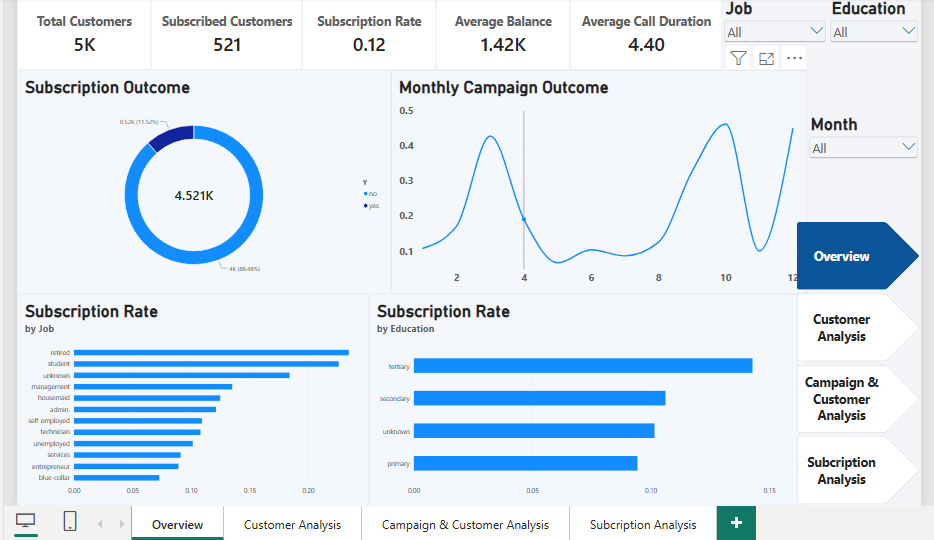

What the dashboard file says about the page in this screenshot:
{"tool":"powerbi","page":{"name":"Overview","canvas":[1920,1080],"ordinal":0},"visuals":[{"type":"cardVisual","fields":{"Data":["bank_cleaned.Total Customers"]},"box":[0,0,284.9,153.1],"z":0},{"type":"cardVisual","fields":{"Data":["bank_cleaned.Average Balance"]},"box":[890.8,0,284.9,153.1],"z":1000},{"type":"cardVisual","fields":{"Data":["bank_cleaned.Subscription Rate"]},"box":[605.9,0,284.9,153.1],"z":2000},{"type":"cardVisual","fields":{"Data":["bank_cleaned.Subscribed Customers"]},"box":[284.9,0,321,153.1],"z":3000},{"type":"cardVisual","fields":{"Data":["bank_cleaned.Average Call Duration"]},"box":[1175.7,0,323.1,153.1],"z":4000},{"type":"donutChart","title":"Subscription Outcome","fields":{"Category":["bank_cleaned.y"],"Y":["CountNonNull(bank_cleaned.y)"]},"box":[0,153.1,795.1,476.2],"z":5000},{"type":"barChart","title":"Subscription Rate","fields":{"Category":["bank_cleaned.job"],"Y":["bank_cleaned.Subscription Rate"]},"box":[0,629.3,748.3,450.7],"z":6000},{"type":"barChart","title":"Subscription Rate ","fields":{"Category":["bank_cleaned.education"],"Y":["bank_cleaned.Subscription Rate"]},"box":[748.3,629.3,931.2,450.7],"z":7000},{"type":"lineChart","title":"Monthly Campaign Outcome","fields":{"Category":["bank_cleaned.month_num"],"Y":["bank_cleaned.Subscription Rate"]},"box":[795.1,153.1,884.4,476.2],"z":8000},{"type":"slicer","title":"Job","fields":{"Values":["bank_cleaned.job"]},"box":[1498.8,0,225.4,153.1],"z":9000},{"type":"slicer","title":"Job","fields":{"Values":["bank_cleaned.education"]},"box":[1724.2,0,195.6,246.6],"z":10000},{"type":"slicer","title":"Job","fields":{"Values":["bank_cleaned.month"]},"box":[1679.5,246.6,240.2,202],"z":11000},{"type":"pageNavigator","box":[1658.3,476.2,261.5,603.8],"z":12000}]}

Visuals, with their boxes on the page's 1920x1080 design canvas (x1, y1, x2, y2). These are canvas units, not pixel positions in the 934x540 screenshot, which may show the page scaled, cropped or inside an application window:
cardVisual - bank_cleaned.Total Customers: 0 0 285 153
cardVisual - bank_cleaned.Average Balance: 891 0 1176 153
cardVisual - bank_cleaned.Subscription Rate: 606 0 891 153
cardVisual - bank_cleaned.Subscribed Customers: 285 0 606 153
cardVisual - bank_cleaned.Average Call Duration: 1176 0 1499 153
"Subscription Outcome" donutChart: 0 153 795 629
"Subscription Rate" barChart: 0 629 748 1080
"Subscription Rate " barChart: 748 629 1680 1080
"Monthly Campaign Outcome" lineChart: 795 153 1680 629
"Job" slicer: 1499 0 1724 153
"Job" slicer: 1724 0 1920 247
"Job" slicer: 1680 247 1920 449
pageNavigator: 1658 476 1920 1080
